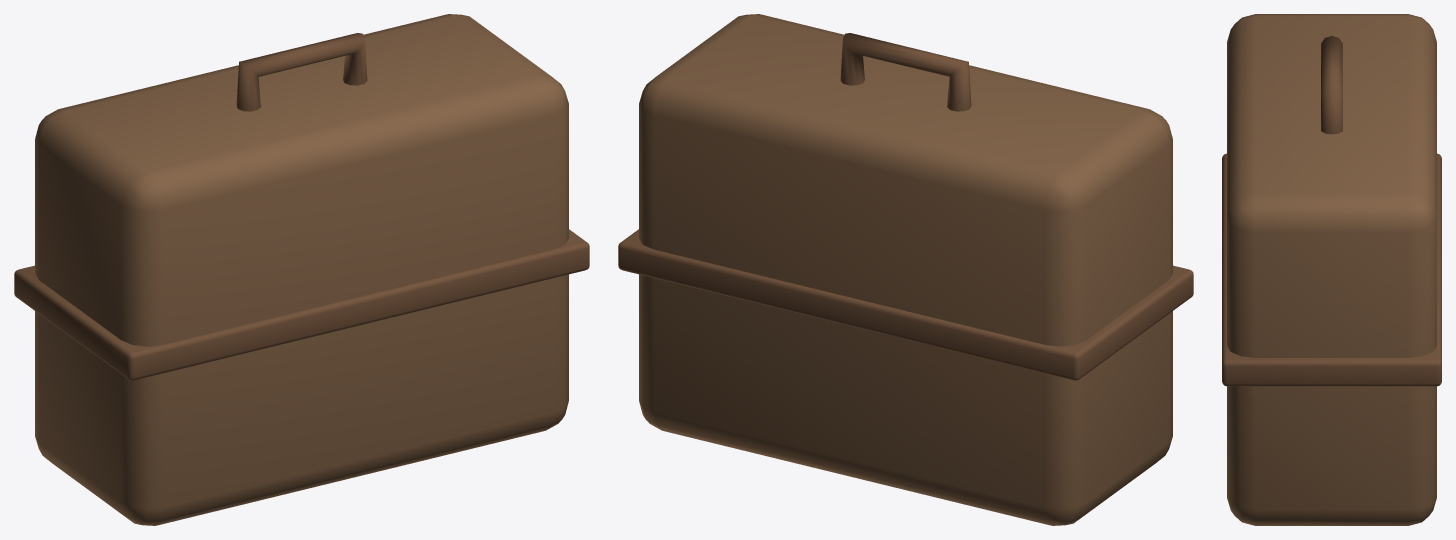
The model's file is luggage.glb.
3 renders of one model, left to right at view 1: azimuth 30°, elevation 25°; view 2: azimuth 150°, elevation 25°; view 3: azimuth 270°, elevation 25°, orthographic. The views are drawn at different scales.
Parts seen in each view (by area): view 1: case, strap, handle; view 2: case, strap, handle; view 3: case, strap, handle.
Boxes of the visible parts, bbox=[...] form: case: bbox=[35, 14, 568, 525]; strap: bbox=[14, 229, 589, 380]; handle: bbox=[236, 33, 367, 111]; case: bbox=[639, 14, 1172, 525]; strap: bbox=[618, 229, 1193, 380]; handle: bbox=[840, 33, 971, 111]; case: bbox=[1227, 14, 1436, 525]; strap: bbox=[1222, 153, 1441, 386]; handle: bbox=[1321, 36, 1342, 134].
Bounding box in the file's own units: 0.52 × 0.4285 × 0.23.
